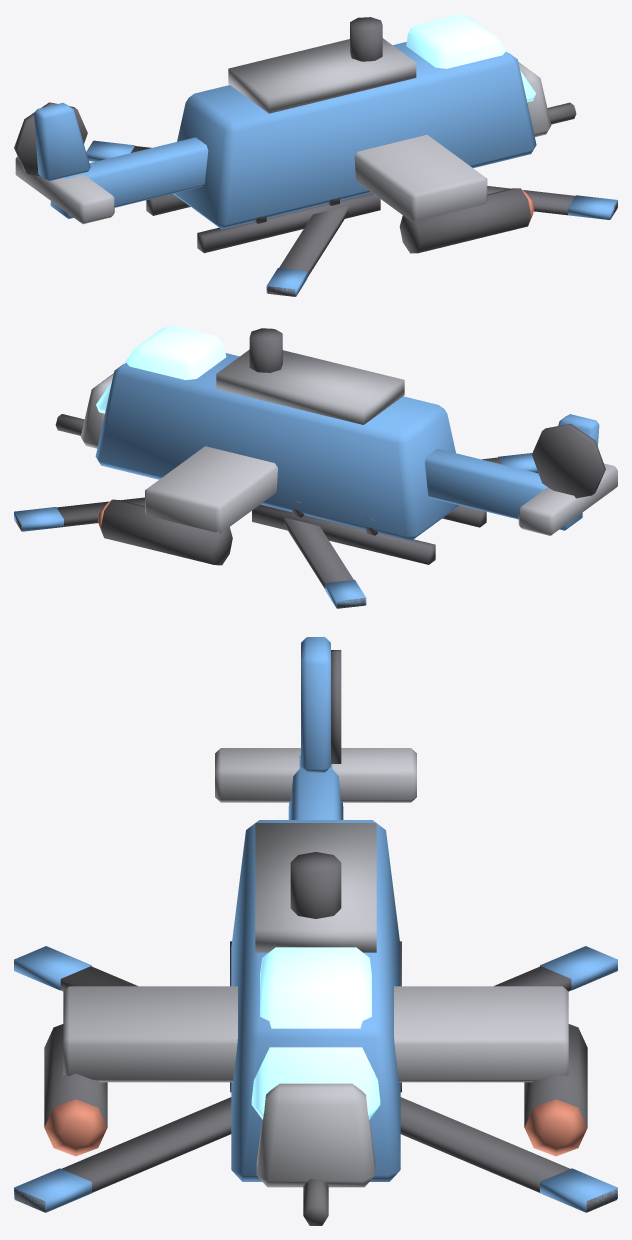
Rendered from gunship.glb.
3 views of the same model, one above another, from view 1: azimuth 30°, elevation 25°; view 2: azimuth 150°, elevation 25°; view 3: azimuth 270°, elevation 25° (orthographic). The views are drawn at different scales.
Visible parts, largest first — view 1: body, rotor; view 2: body, rotor; view 3: body, rotor.
Boxes of the visible parts, box(x1,y1,x2,y2) form: body: box(14, 14, 576, 253); rotor: box(86, 140, 617, 296); body: box(55, 325, 617, 565); rotor: box(14, 453, 538, 608); body: box(44, 637, 587, 1225); rotor: box(14, 946, 617, 1212).
Size of the model in its own units: 0.935 by 0.2625 by 0.5975.
